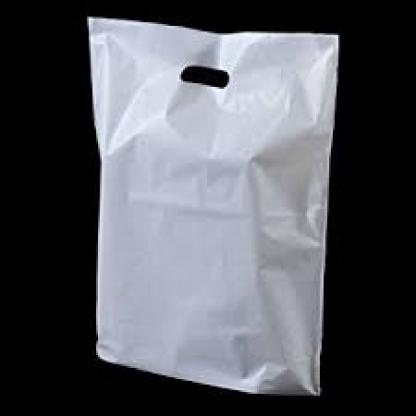trash: (89, 18, 337, 394)
